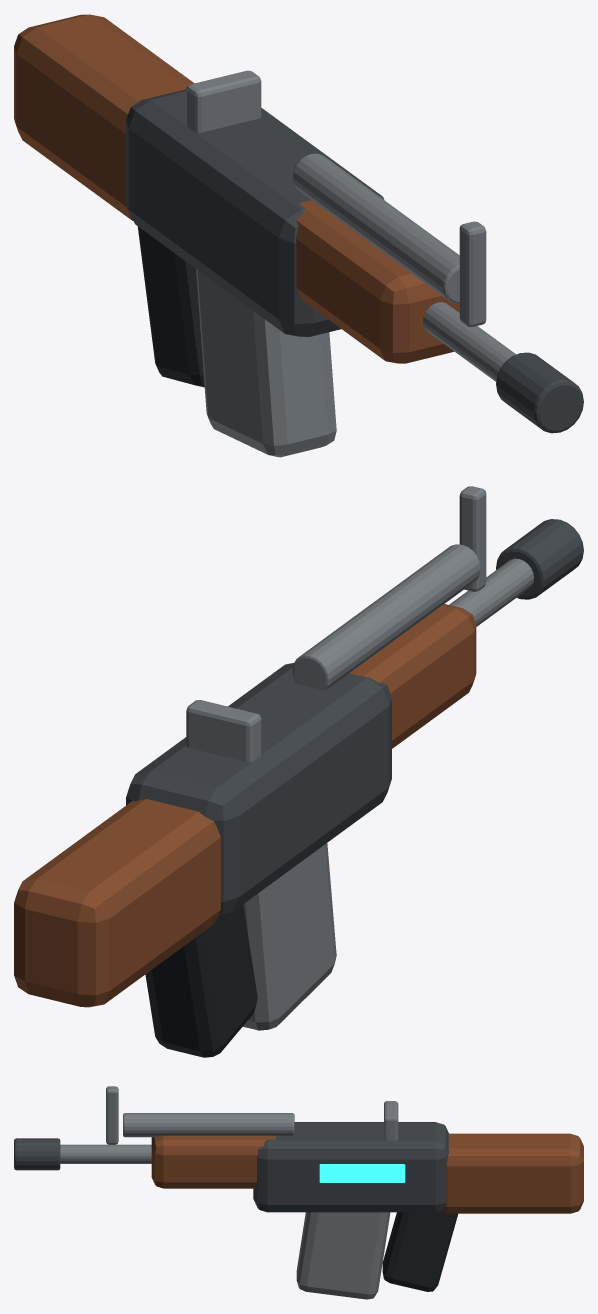
The picture shows the model from 3 angles, top to bottom: view 1: azimuth 30°, elevation 25°; view 2: azimuth 150°, elevation 25°; view 3: azimuth 270°, elevation 25°; orthographic projection. The views are drawn at different scales.
Visible parts, largest first — view 1: Receiver, Wood stock, Magazine, Upper handguard, Gas tube, Pistol grip, Muzzle brake, Rear sight, Barrel, Front sight; view 2: Receiver, Wood stock, Magazine, Pistol grip, Upper handguard, Gas tube, Muzzle brake, Rear sight, Barrel, Front sight; view 3: Receiver, Wood stock, Magazine, Upper handguard, Pistol grip, Gas tube, Barrel, Aurora serial plate, Muzzle brake, Front sight, Rear sight.
Part boxes in pixels (x1=…): Receiver: x1=126, y1=89, x2=384, y2=336; Wood stock: x1=14, y1=14, x2=194, y2=220; Magazine: x1=196, y1=269, x2=336, y2=457; Upper handguard: x1=295, y1=200, x2=459, y2=363; Gas tube: x1=292, y1=153, x2=459, y2=303; Pistol grip: x1=137, y1=226, x2=204, y2=387; Muzzle brake: x1=496, y1=352, x2=583, y2=433; Rear sight: x1=186, y1=70, x2=261, y2=132; Barrel: x1=423, y1=302, x2=515, y2=381; Front sight: x1=459, y1=221, x2=486, y2=327; Receiver: x1=126, y1=663, x2=391, y2=914; Wood stock: x1=14, y1=799, x2=220, y2=1007; Magazine: x1=243, y1=843, x2=336, y2=1030; Pistol grip: x1=145, y1=904, x2=257, y2=1057; Upper handguard: x1=349, y1=604, x2=476, y2=748; Gas tube: x1=292, y1=544, x2=480, y2=690; Muzzle brake: x1=496, y1=519, x2=583, y2=599; Rear sight: x1=186, y1=700, x2=261, y2=761; Barrel: x1=449, y1=558, x2=533, y2=626; Front sight: x1=459, y1=486, x2=486, y2=591; Receiver: x1=253, y1=1122, x2=449, y2=1212; Wood stock: x1=440, y1=1133, x2=583, y2=1213; Magazine: x1=296, y1=1212, x2=390, y2=1299; Upper handguard: x1=151, y1=1135, x2=275, y2=1188; Pistol grip: x1=382, y1=1211, x2=457, y2=1291; Gas tube: x1=123, y1=1113, x2=294, y2=1137; Barrel: x1=60, y1=1144, x2=151, y2=1163; Aurora serial plate: x1=319, y1=1164, x2=405, y2=1182; Muzzle brake: x1=14, y1=1138, x2=60, y2=1170; Front sight: x1=106, y1=1086, x2=118, y2=1144; Rear sight: x1=384, y1=1101, x2=398, y2=1140.
Size of the model in its own units: 0.212 by 0.6354 by 1.59.
